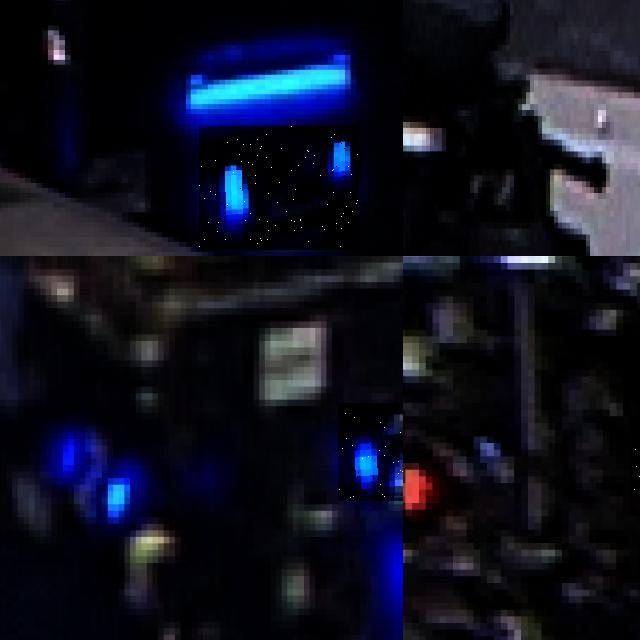B2: (200, 126, 360, 250), (40, 403, 141, 534), (337, 403, 403, 501)
R2: (403, 436, 446, 529)
